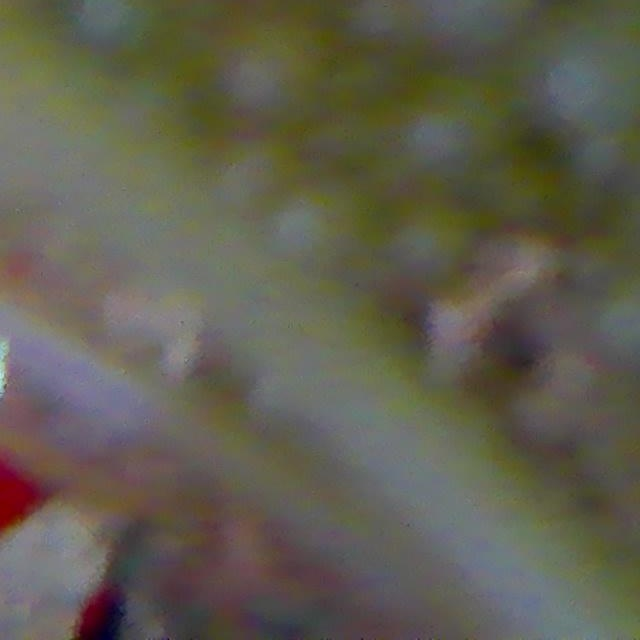SeaGrape: (389, 199, 479, 287), (75, 0, 165, 55)
